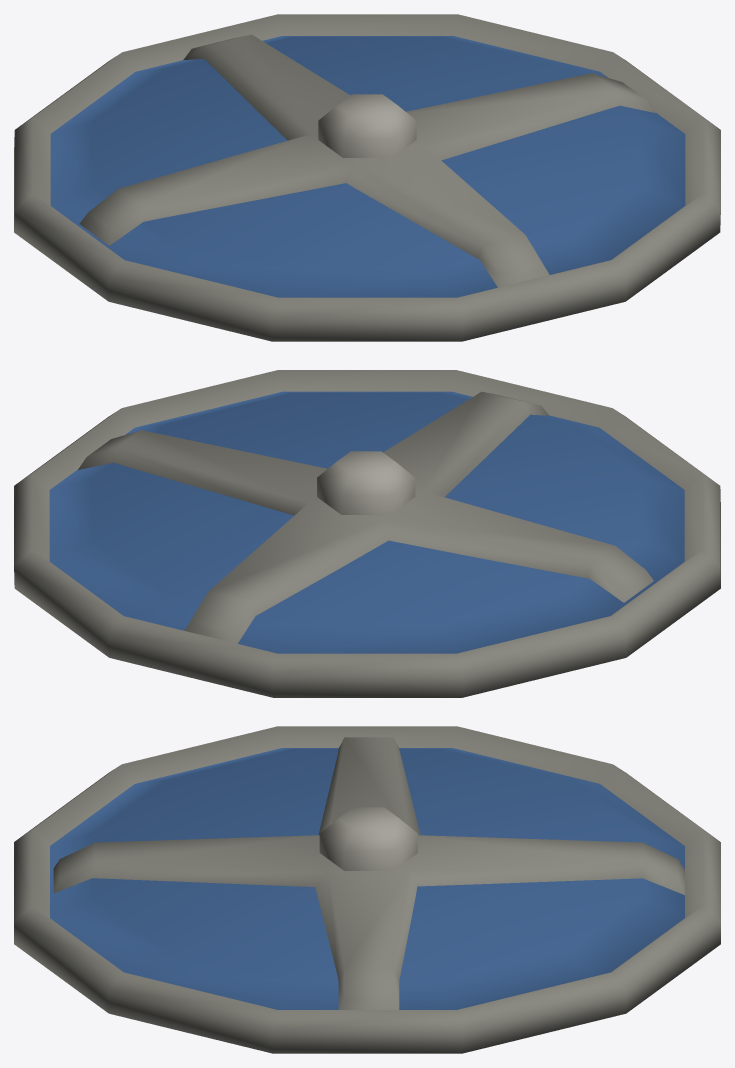
Rendered from rpgpp_ag_shield_06.fbx.
3 renders of one model, top to bottom at view 1: azimuth 30°, elevation 25°; view 2: azimuth 150°, elevation 25°; view 3: azimuth 270°, elevation 25°, orthographic.
Visible parts, largest first — view 1: rpgpp_ag_shield_06; view 2: rpgpp_ag_shield_06; view 3: rpgpp_ag_shield_06.
Part boxes in pixels (x1,y1,x2,y2): rpgpp_ag_shield_06: (14, 14, 720, 341); rpgpp_ag_shield_06: (14, 370, 720, 697); rpgpp_ag_shield_06: (14, 726, 720, 1053).
Size of the model in its own units: 0.967 by 0.2052 by 0.9661.
